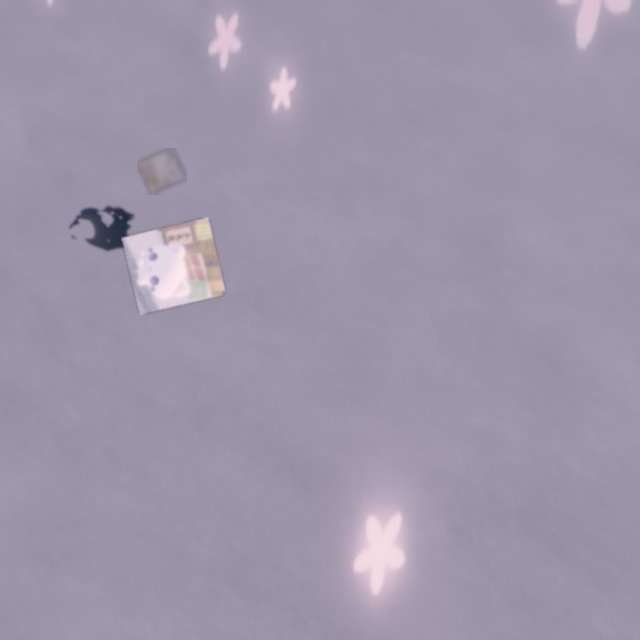urso_branco: (121, 217, 227, 315), (137, 148, 187, 195)
urso_preto: (55, 188, 154, 268)
